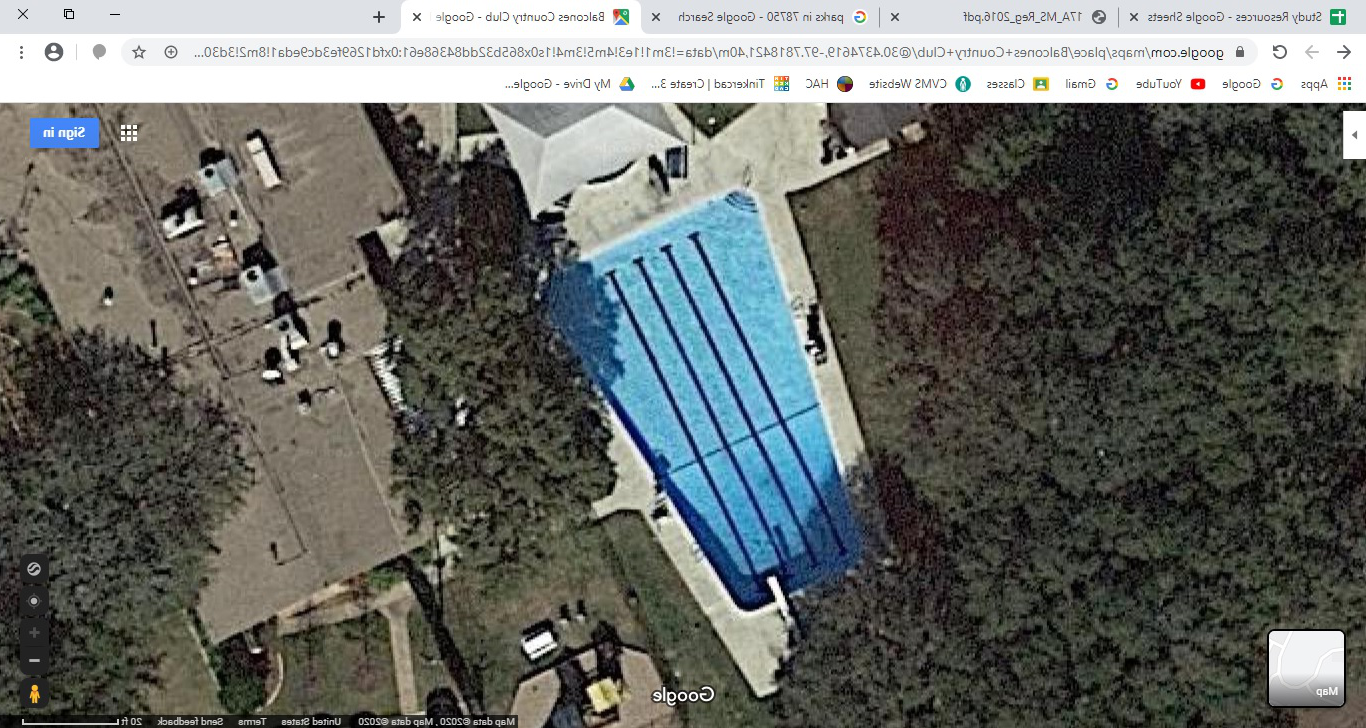pool: (474, 187, 909, 667)
